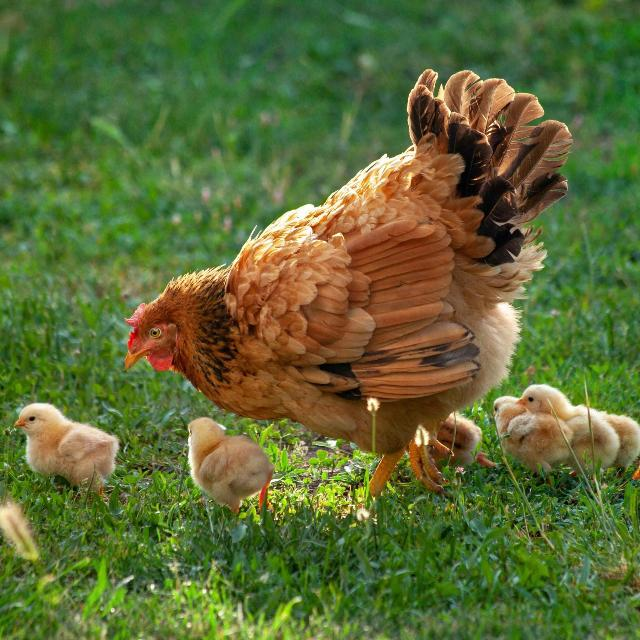Chicken: (123, 66, 571, 497)
